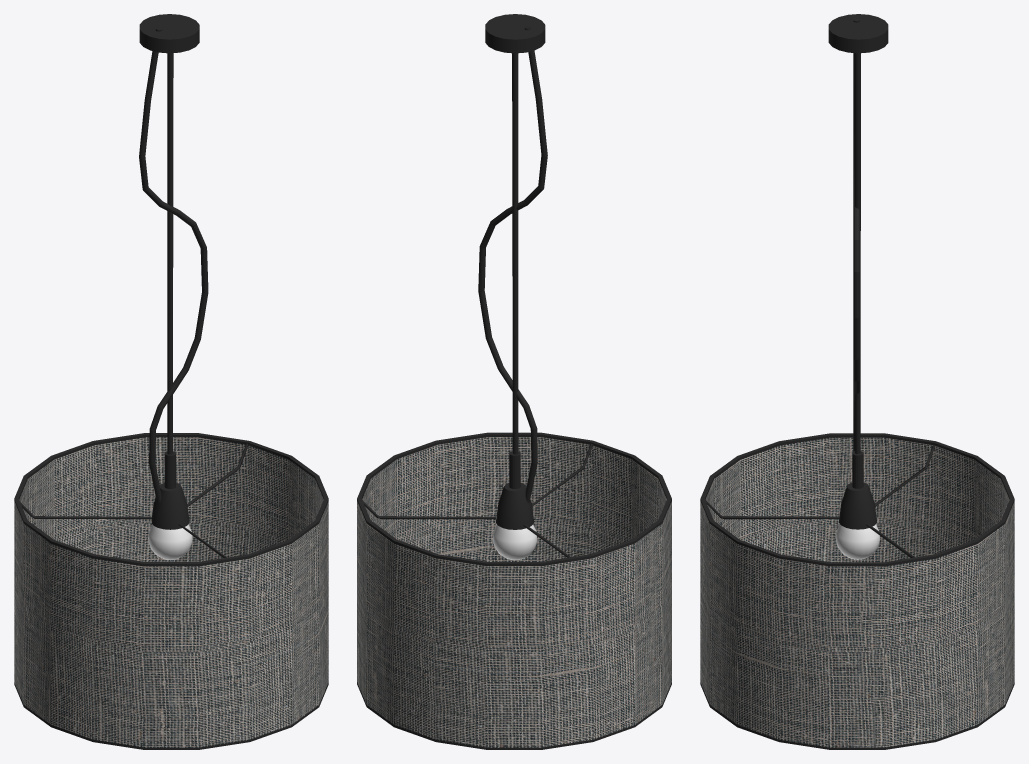
The model's file is Ceiling Lamp 5.FBX.
3 renders of one model, left to right at view 1: azimuth 30°, elevation 25°; view 2: azimuth 150°, elevation 25°; view 3: azimuth 270°, elevation 25°, orthographic.
Visible parts, largest first — view 1: Ceiling lamp 5; view 2: Ceiling lamp 5; view 3: Ceiling lamp 5.
Part boxes in pixels (x1,y1,x2,y2): Ceiling lamp 5: (14,14,328,749); Ceiling lamp 5: (357,14,671,749); Ceiling lamp 5: (700,14,1014,749).
Size of the model in its own units: 30.79 by 72.36 by 31.27.
3 materials, 2 textured.
